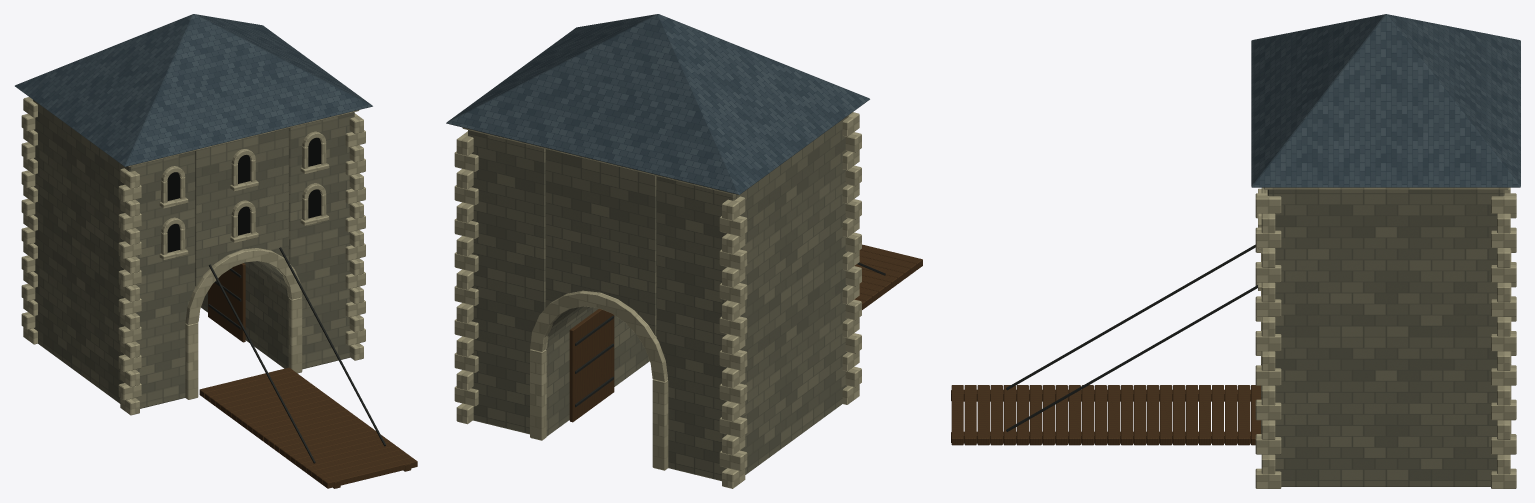
Rendered from gatehouse-CwbfjIrx.glb.
The picture shows the model from 3 angles, left to right: view 1: azimuth 30°, elevation 25°; view 2: azimuth 150°, elevation 25°; view 3: azimuth 270°, elevation 25°; orthographic projection. The views are drawn at different scales.
Parts seen in each view (by area): view 1: gatehouse__SW_stone, gatehouse__SW_slate, gatehouse__SW_limestone, gatehouse__SW_wood, gatehouse__SW_dark, gatehouse__SW_iron; view 2: gatehouse__SW_stone, gatehouse__SW_slate, gatehouse__SW_limestone, gatehouse__SW_wood, gatehouse__SW_iron; view 3: gatehouse__SW_stone, gatehouse__SW_slate, gatehouse__SW_wood, gatehouse__SW_limestone, gatehouse__SW_iron.
Part boxes in pixels (x1,y1,x2,y2): gatehouse__SW_stone: (33,100,354,408); gatehouse__SW_slate: (15,14,372,166); gatehouse__SW_limestone: (21,97,365,415); gatehouse__SW_wood: (199,263,417,488); gatehouse__SW_dark: (167,137,320,252); gatehouse__SW_iron: (208,247,385,463); gatehouse__SW_stone: (468,115,848,481); gatehouse__SW_slate: (446,14,869,194); gatehouse__SW_limestone: (454,112,861,488); gatehouse__SW_wood: (569,244,922,422); gatehouse__SW_iron: (575,262,885,407); gatehouse__SW_stone: (1267,189,1504,486); gatehouse__SW_slate: (1251,14,1520,187); gatehouse__SW_wood: (951,385,1260,445); gatehouse__SW_limestone: (1255,187,1516,488); gatehouse__SW_iron: (1006,244,1257,431).
Size of the model in its own units: 8.81 by 11.34 by 14.41.
6 materials, 6 textured.
